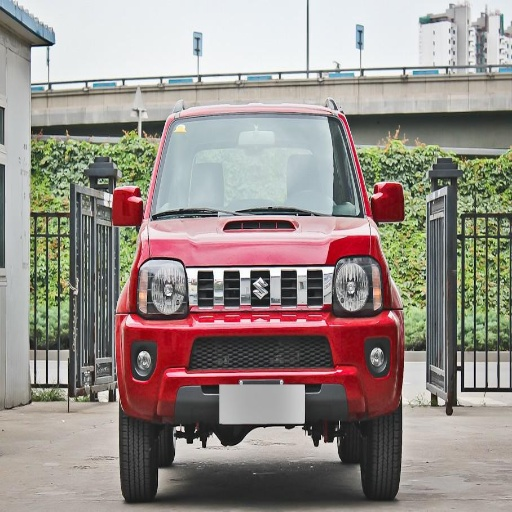front_bumper: (120, 265, 398, 419)
front_right_light: (131, 264, 187, 318)
hood: (145, 218, 374, 266)
left_mirror: (373, 183, 404, 223)
